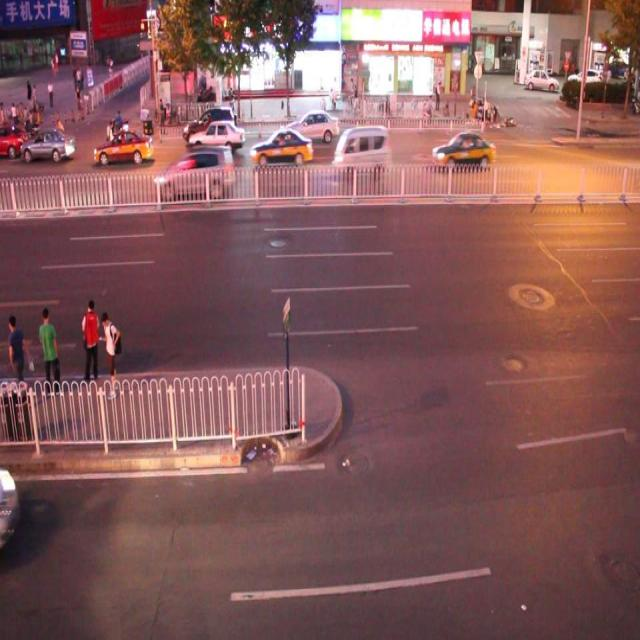car: (154, 148, 232, 198), (430, 127, 494, 170), (250, 129, 312, 167), (93, 128, 153, 165), (188, 117, 246, 154), (19, 128, 76, 164), (284, 109, 339, 145), (182, 106, 237, 141), (1, 119, 28, 158)
truck: (333, 125, 390, 180)
